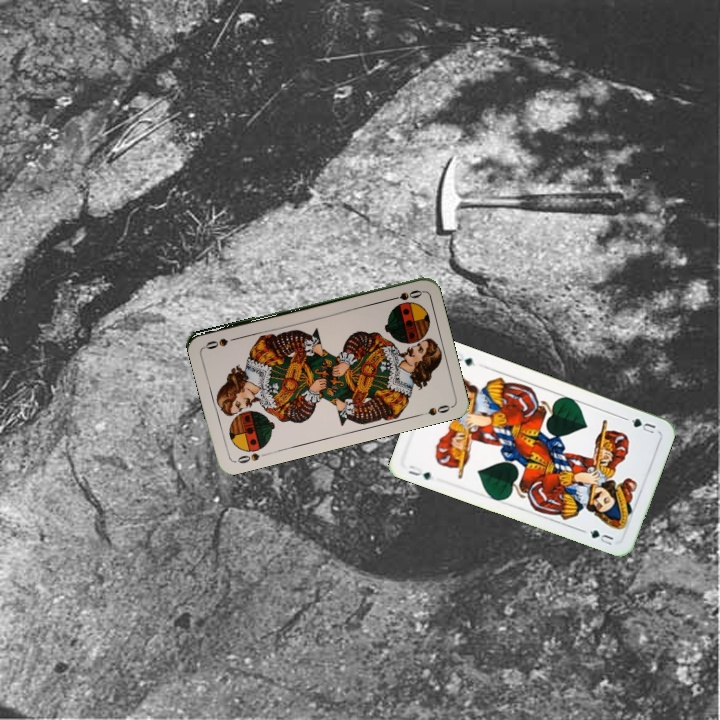GU: (626, 414, 658, 436), (404, 461, 434, 482)
SO: (231, 442, 271, 466), (384, 286, 425, 304)
